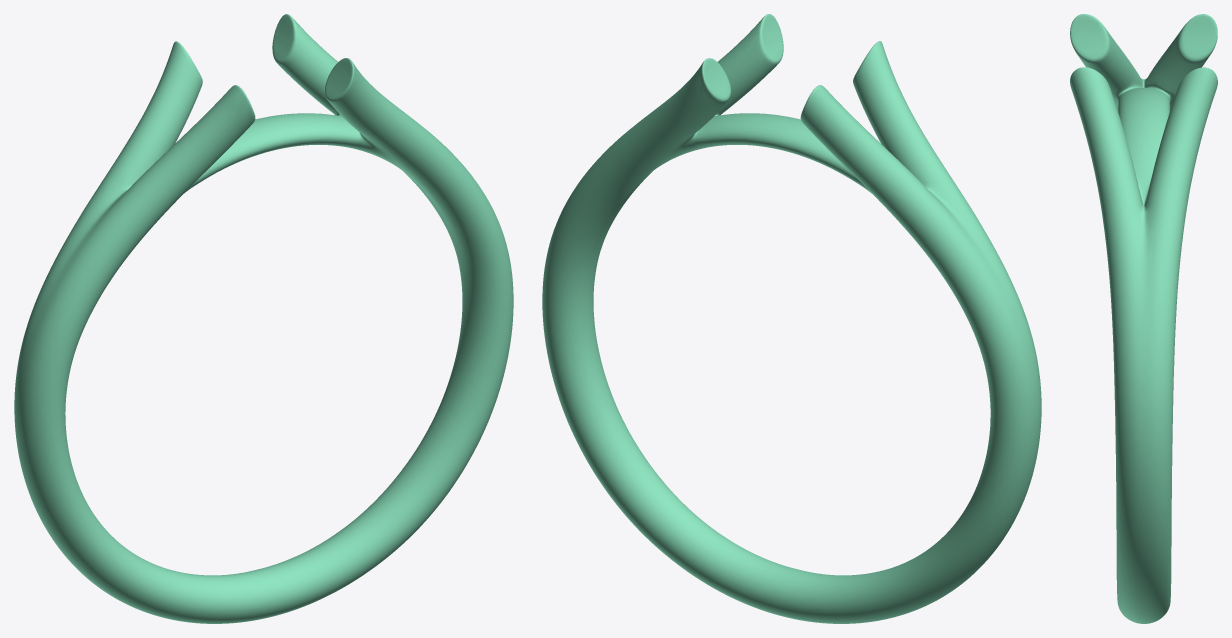
3 renders of one model, left to right at view 1: azimuth 30°, elevation 25°; view 2: azimuth 150°, elevation 25°; view 3: azimuth 270°, elevation 25°, orthographic.
Parts seen in each view (by area): view 1: Metal02; view 2: Metal02; view 3: Metal02.
Boxes of the visible parts, <box> form: Metal02: <box>14,14,513,623</box>; Metal02: <box>542,14,1041,623</box>; Metal02: <box>1070,14,1217,623</box>.
Size of the model in its own units: 20.91 by 23.03 by 5.54.
